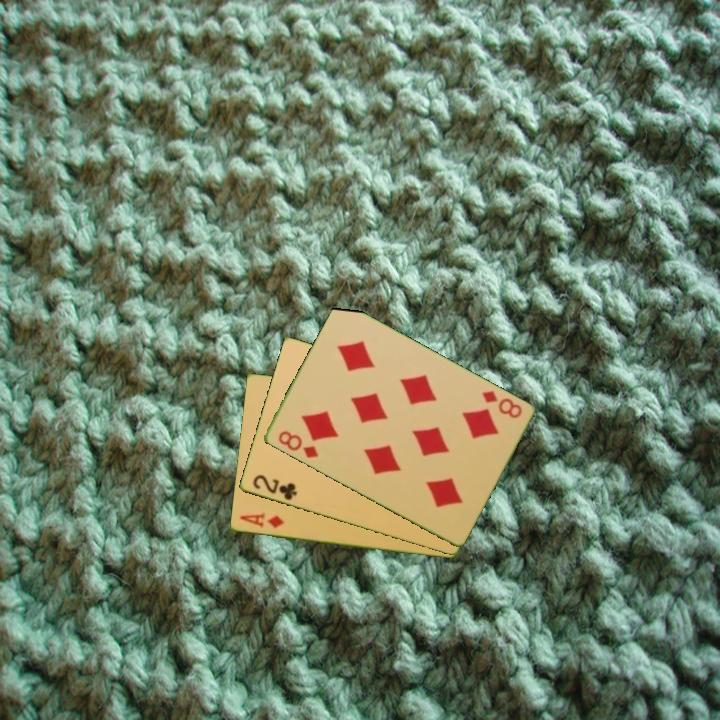2c: (249, 471, 300, 503)
8d: (274, 427, 321, 461), (478, 387, 525, 421)
Ad: (236, 510, 287, 531)
